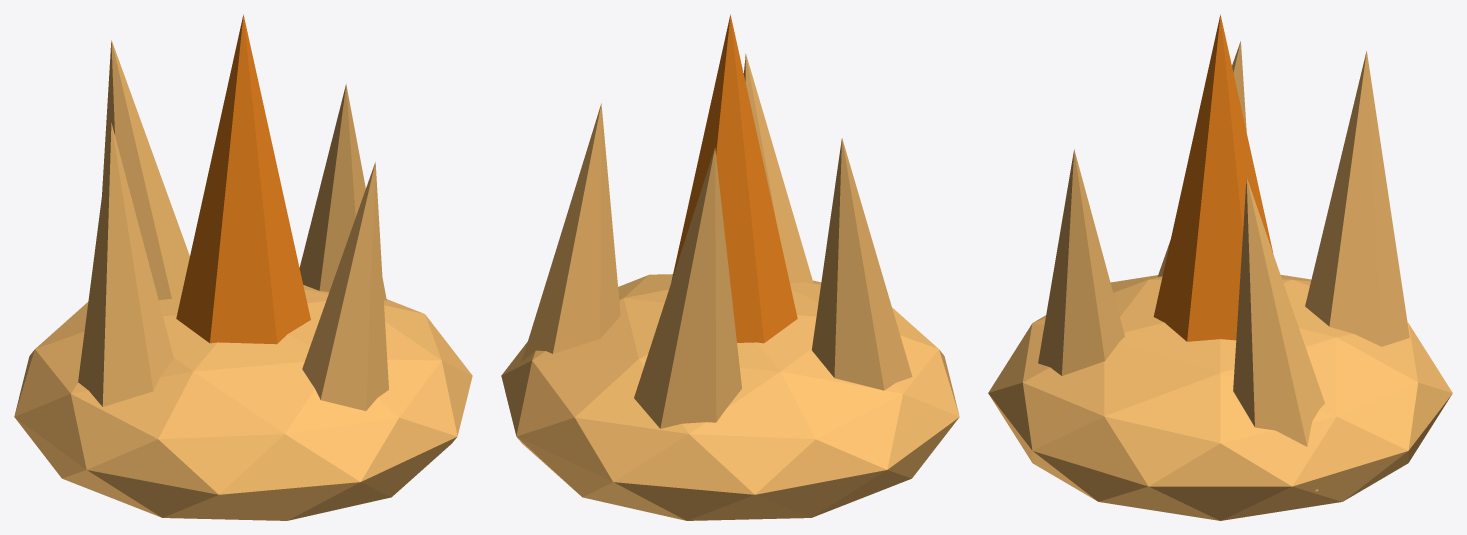
The model's file is Scuba_CoralOrange.fbx.
3 renders of one model, left to right at view 1: azimuth 30°, elevation 25°; view 2: azimuth 150°, elevation 25°; view 3: azimuth 270°, elevation 25°, orthographic.
Parts seen in each view (by area): view 1: CoralOrange; view 2: CoralOrange; view 3: CoralOrange.
Part boxes in pixels (x1,y1,x2,y2): CoralOrange: (14, 14, 472, 520); CoralOrange: (501, 14, 959, 520); CoralOrange: (988, 14, 1452, 520).
Bounding box in the file's own units: 0.9511 × 1.1 × 1.
